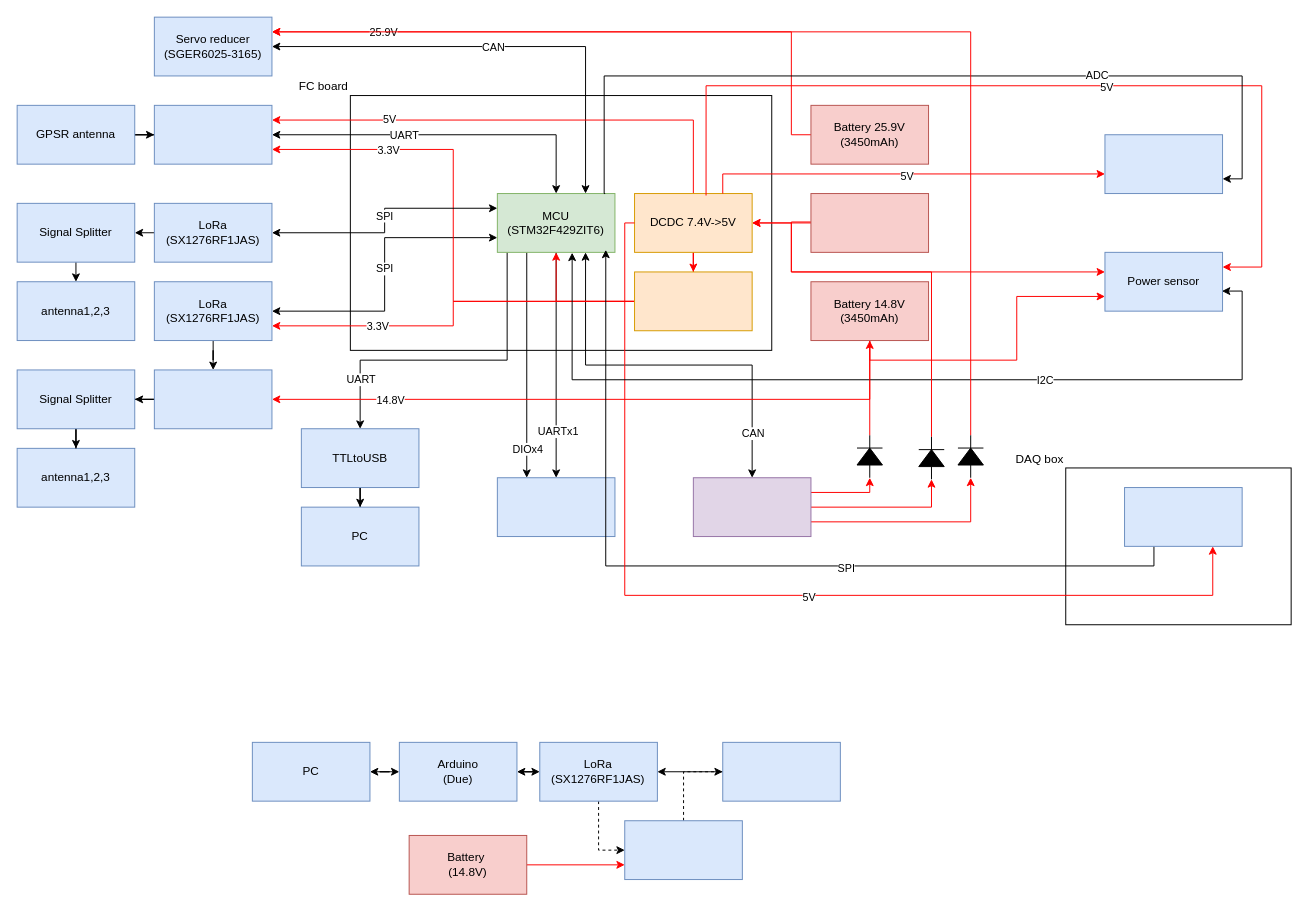
The diagram is 1308 pixels wide and 911 high, and some of its shapes have lost their labels. The shapes that lost their labels are listed below. From the top down, each one's centre as x and y in pixels, then its label:
At (212,134): "INS/GNSS (MTi-7)".
At (1163,164): "temperature sensor".
At (869,222): "Battery 7.4V (3450mAh)".
At (693,301): "LDO 5V->3.3V".
At (212,399): "Power amplifier (N0039 ERAM-0.01-1G-2W)".
At (555,507): "Spare".
At (751,507): "EGSE".
At (1183,516): "SD card module".
At (781,771): "Yagi antenna (OSCAR44/0.3M)".
At (683,850): "PA (KDT700MPA-035)".
